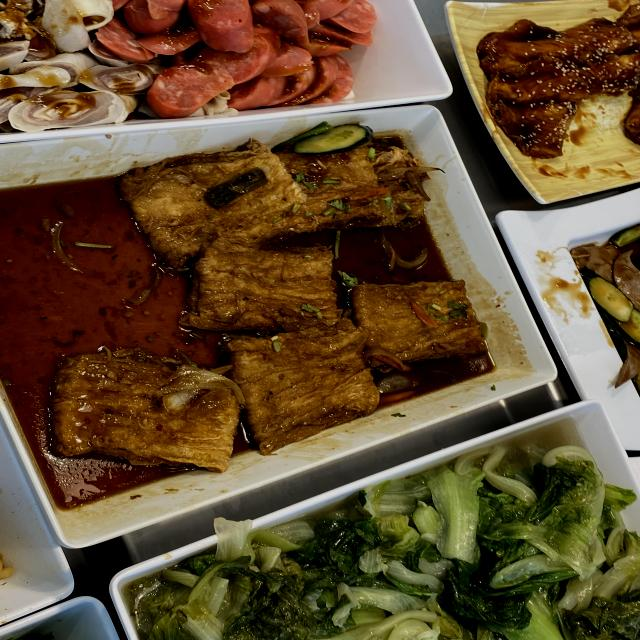bean bag: (100, 176, 420, 402)
